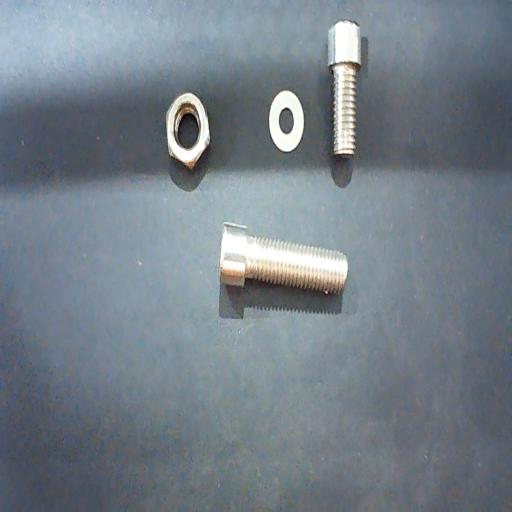nut: (165, 92, 210, 169)
screw: (219, 222, 348, 296), (327, 20, 362, 157)
washer: (269, 90, 304, 152)
